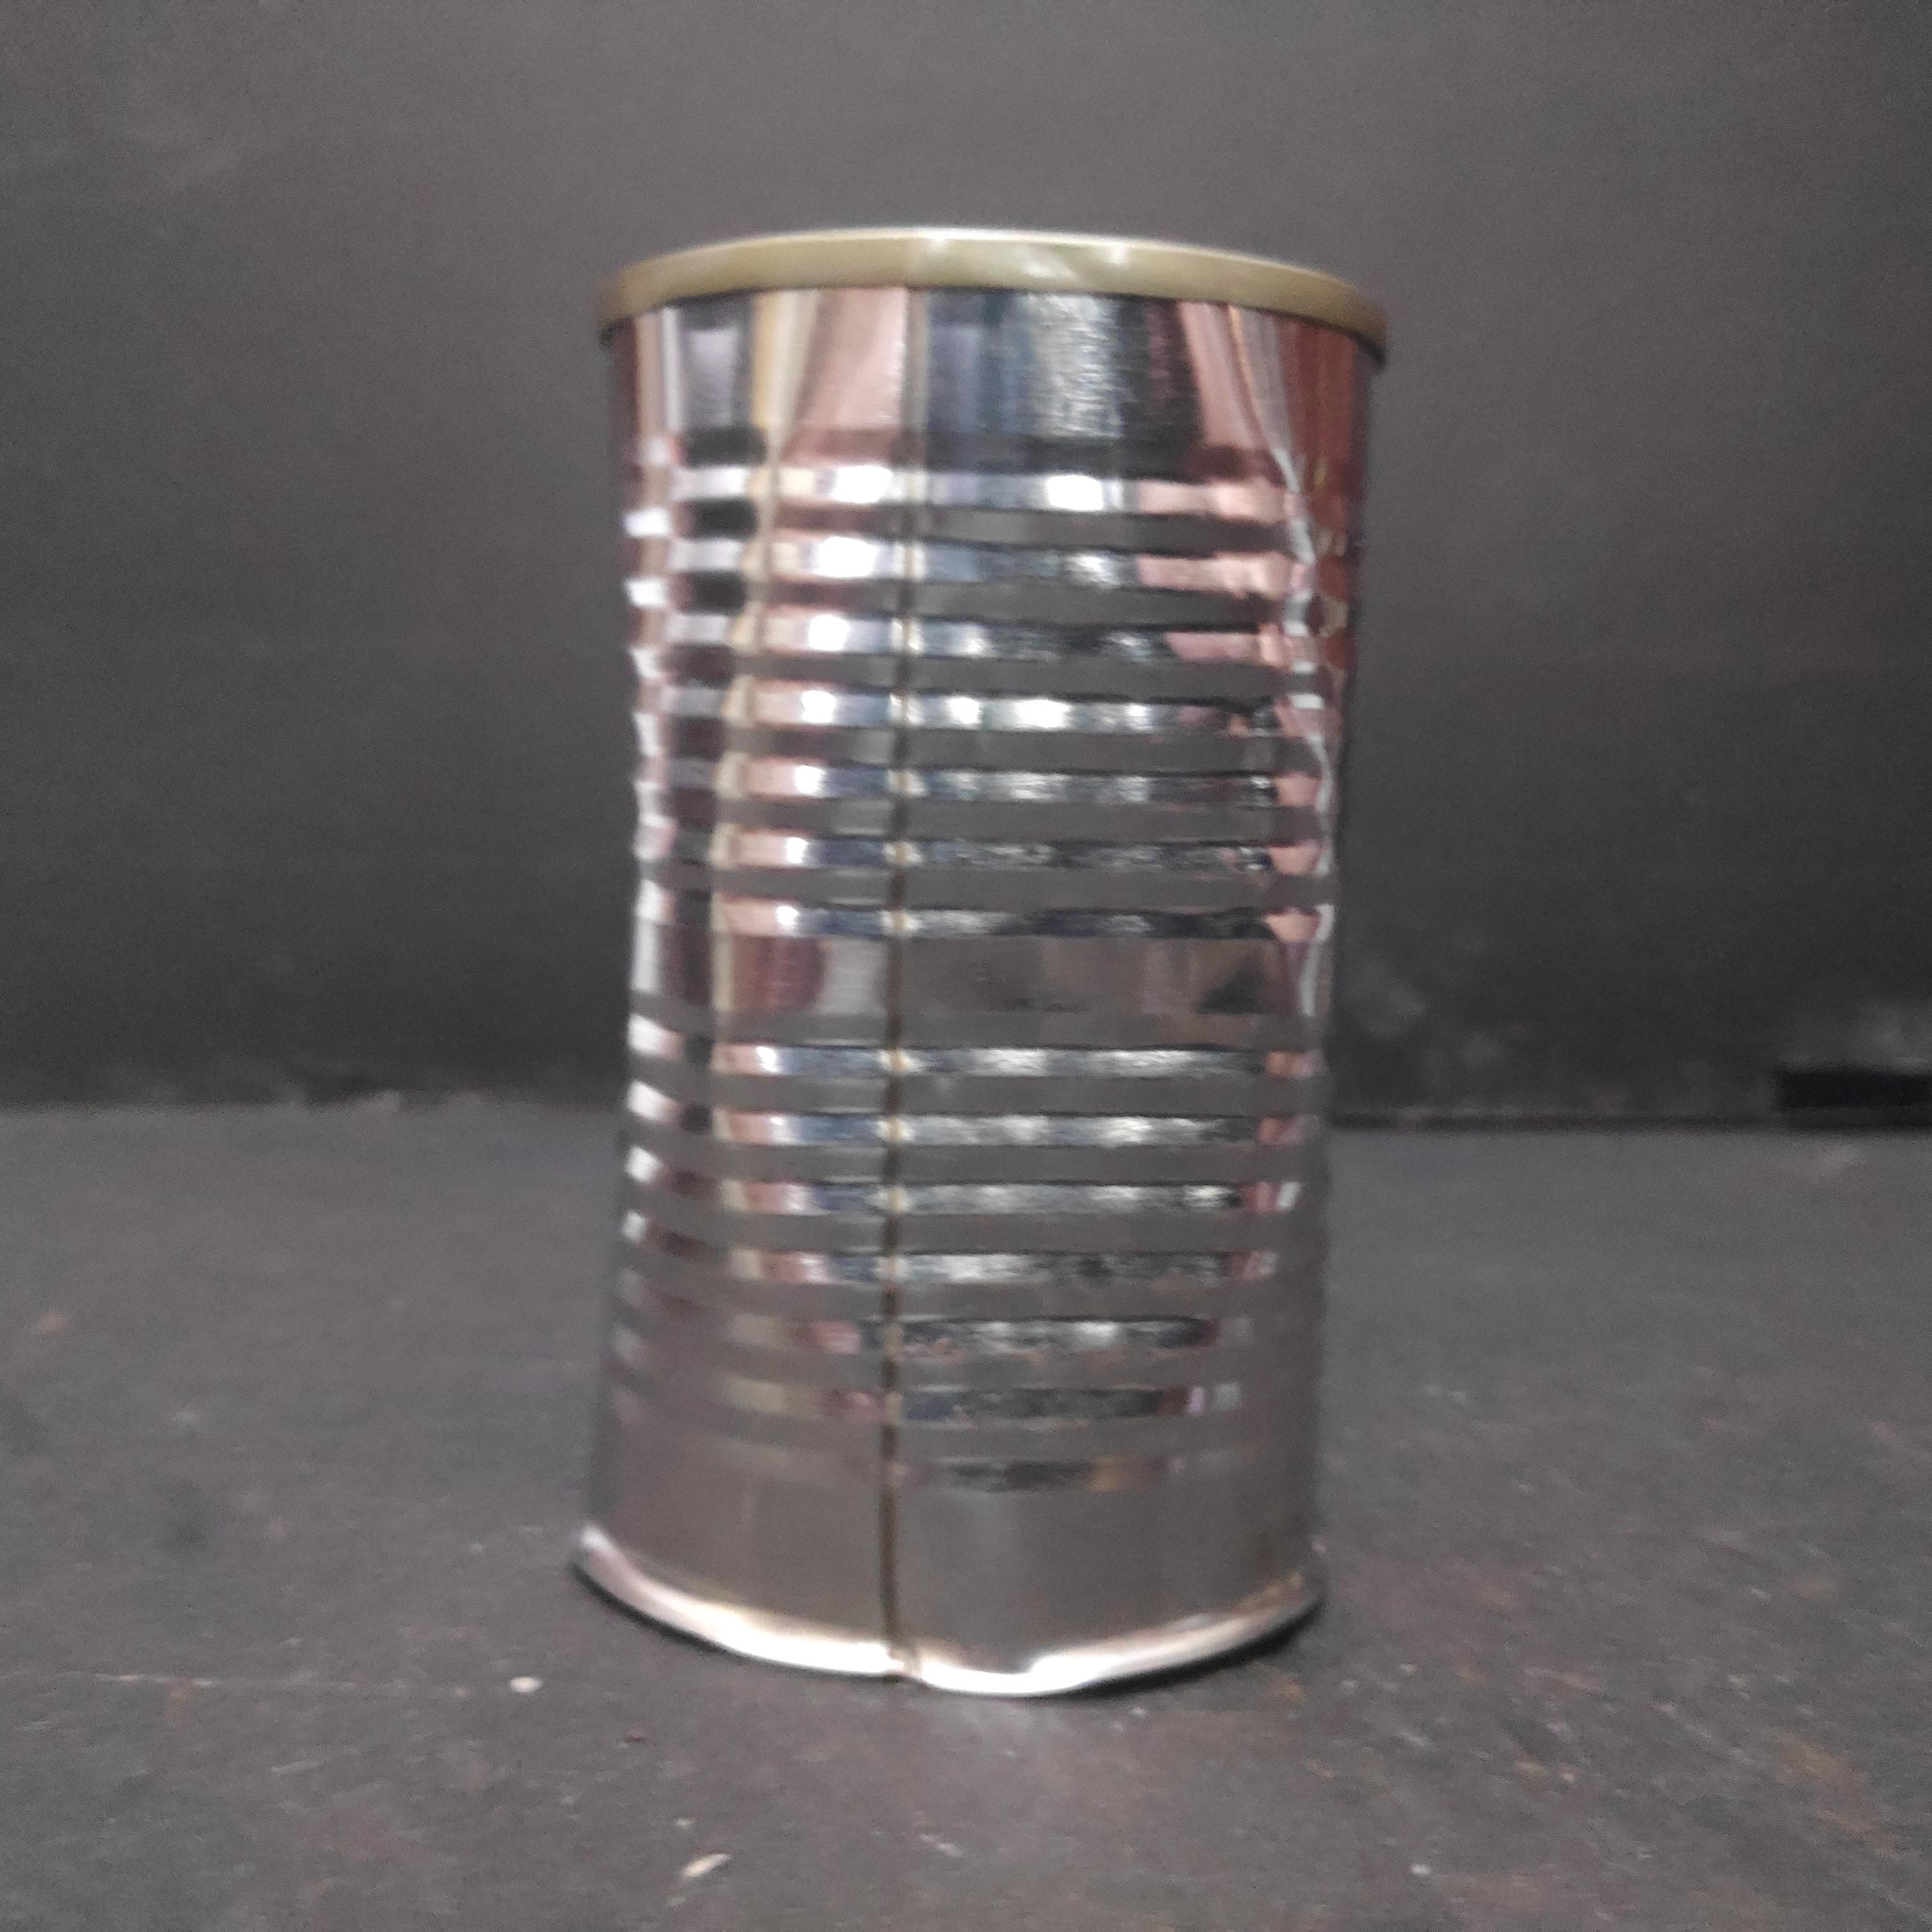Minor Defect: (577, 221, 1403, 1723)
